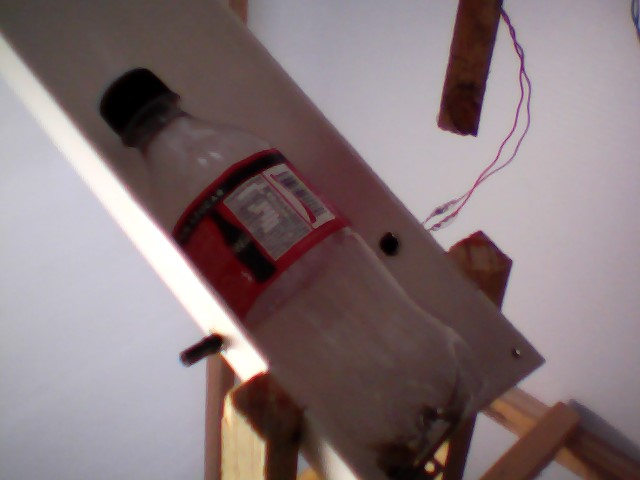plastico: (96, 67, 498, 480)
